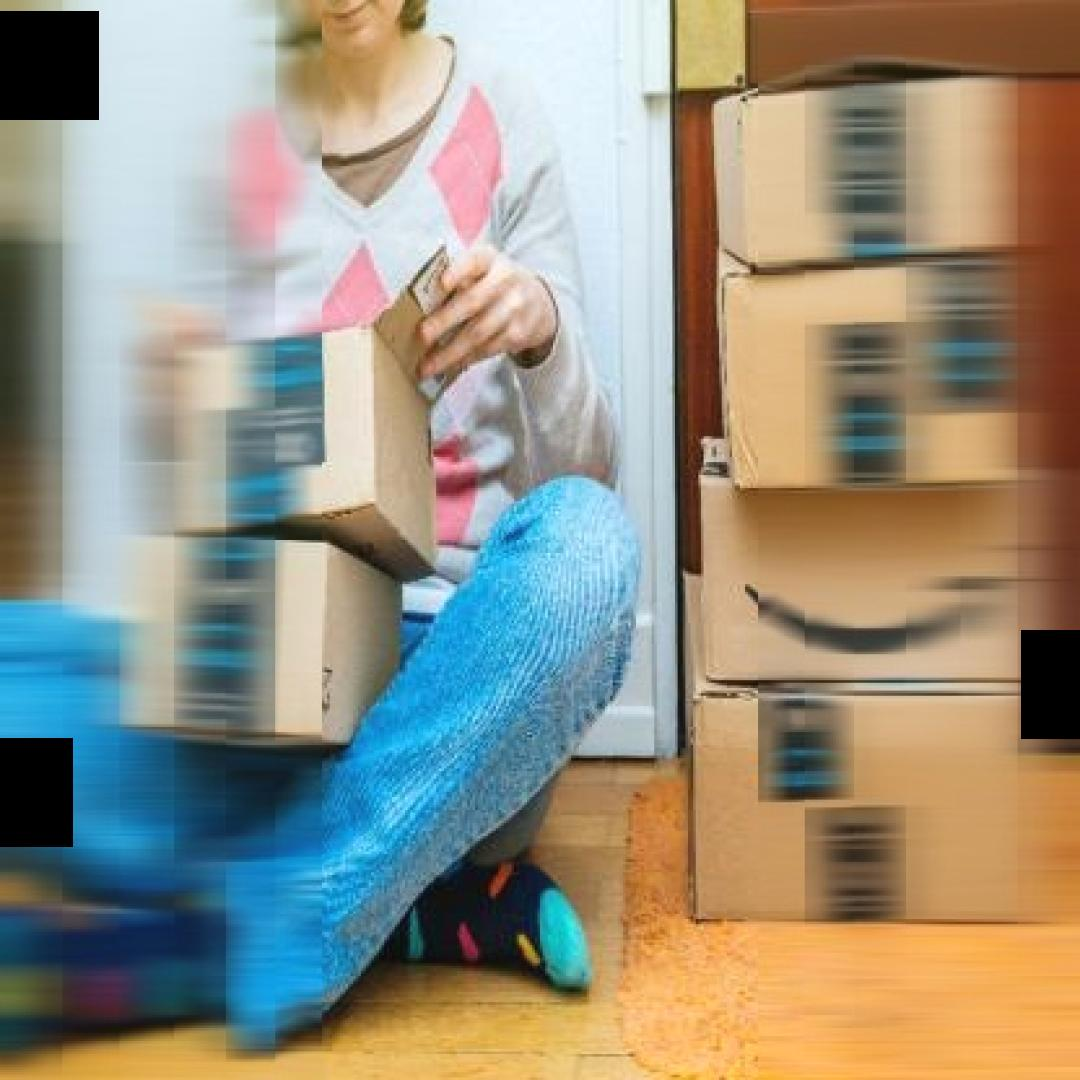package: (678, 672, 1048, 926), (698, 465, 1044, 698), (711, 255, 1018, 486), (179, 322, 439, 587), (706, 55, 1018, 268), (116, 535, 398, 766)
